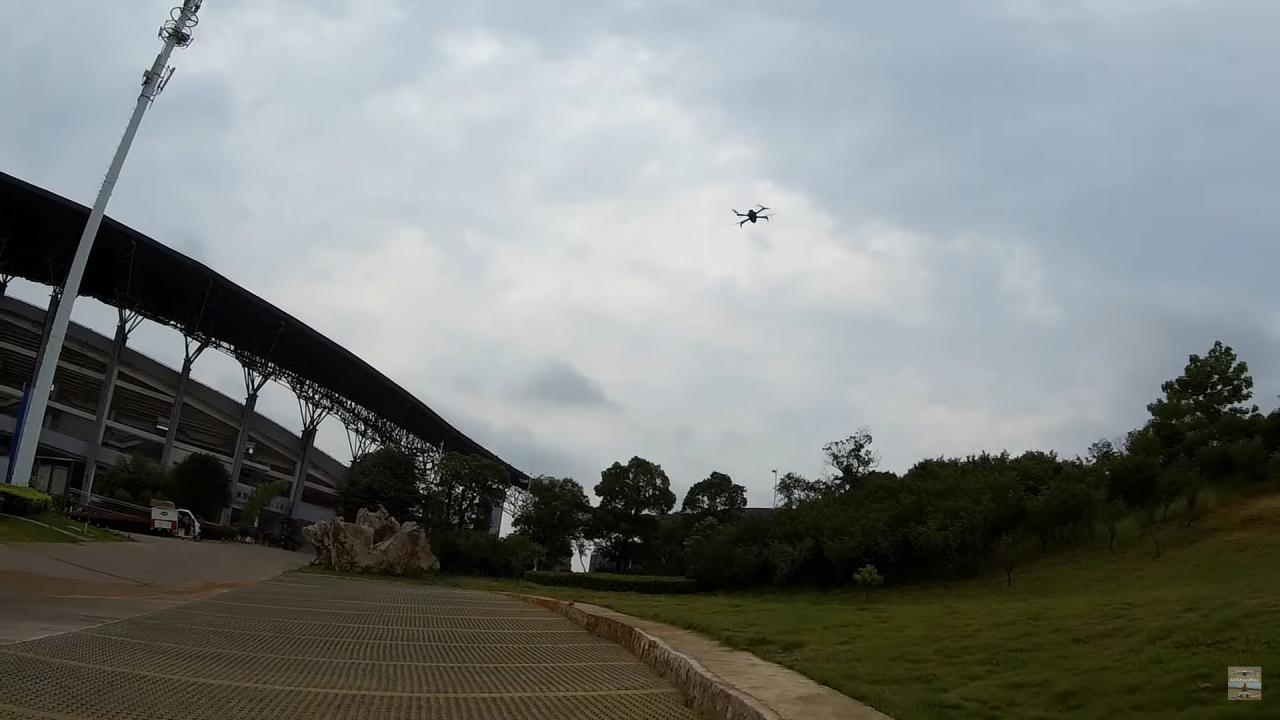Drone: (722, 195, 783, 237)
